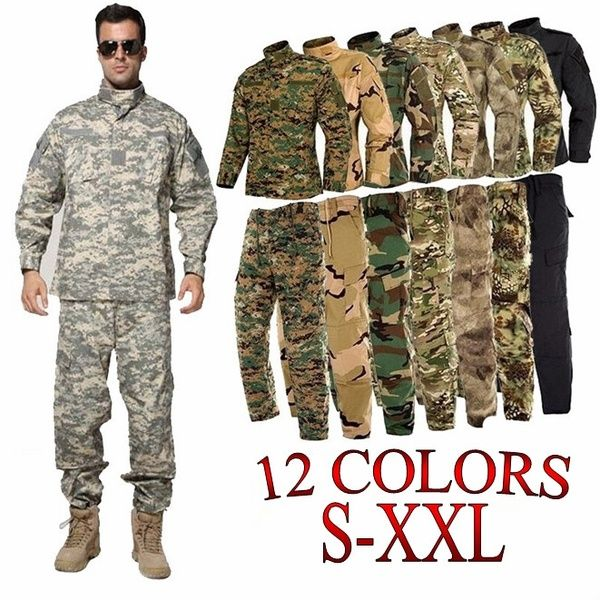uniform: (20, 105, 206, 518), (234, 55, 329, 420), (524, 23, 588, 420), (318, 45, 377, 427), (407, 36, 464, 424), (367, 47, 419, 424), (452, 36, 499, 413), (494, 33, 540, 417)
